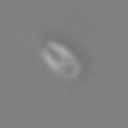normal: (1, 1, 48, 48)
